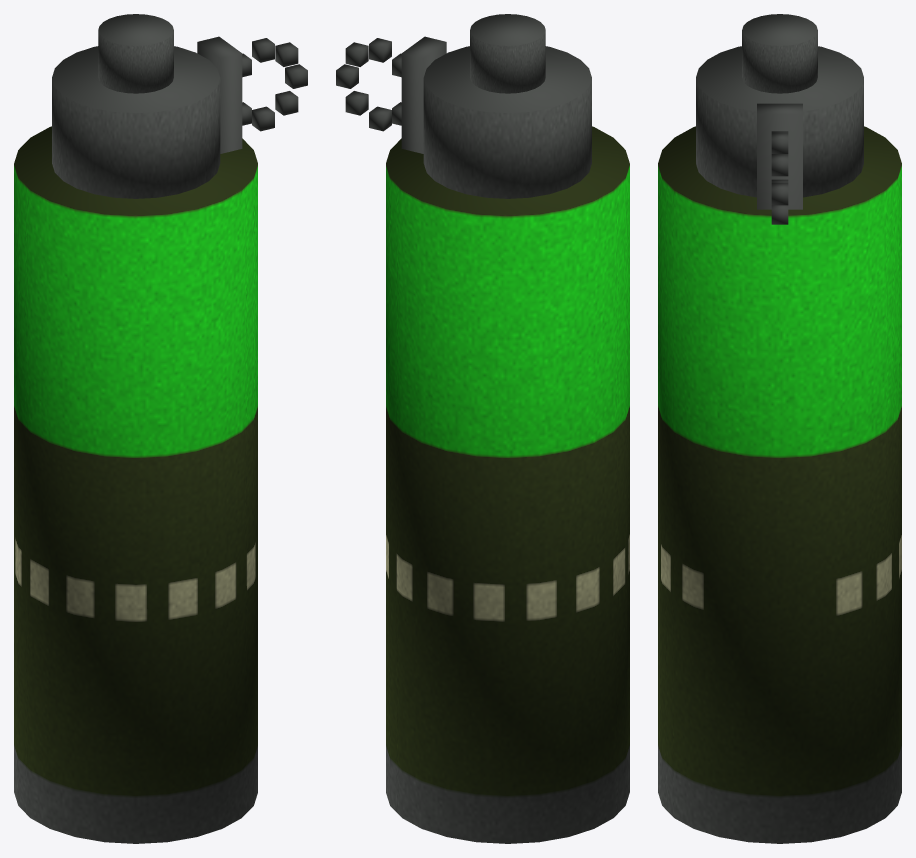
The model's file is SignalSmoke_SmokeGrenade.fbx.
The picture shows the model from 3 angles, left to right: view 1: azimuth 30°, elevation 25°; view 2: azimuth 150°, elevation 25°; view 3: azimuth 270°, elevation 25°; orthographic projection.
Visible parts, largest first — view 1: SignalSmoke_SmokeGrenade; view 2: SignalSmoke_SmokeGrenade; view 3: SignalSmoke_SmokeGrenade.
Part boxes in pixels (box(x1,y1,x2,y2)): SignalSmoke_SmokeGrenade: box(14, 14, 307, 843); SignalSmoke_SmokeGrenade: box(336, 14, 629, 843); SignalSmoke_SmokeGrenade: box(658, 14, 901, 843).
Bounding box in the file's own units: 15 × 40 × 11.6.
